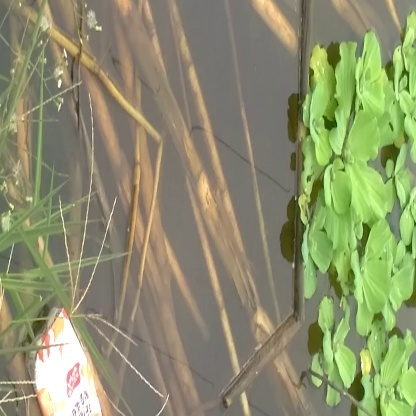milk-box: (25, 302, 116, 416)
